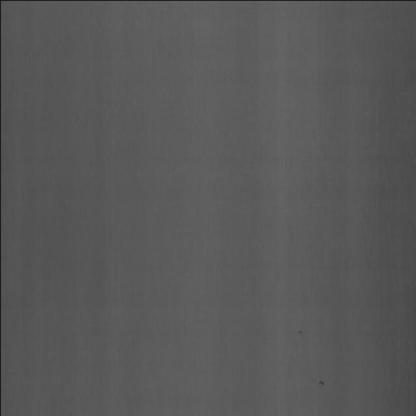inclusion: (316, 375, 330, 404), (292, 325, 308, 349)
